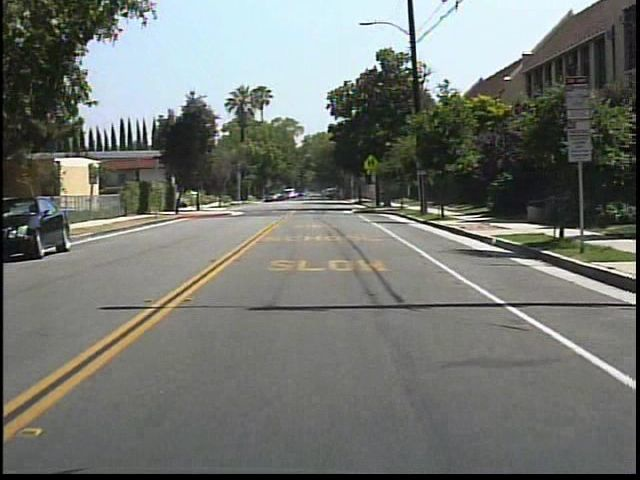person: (316, 188, 331, 205)
